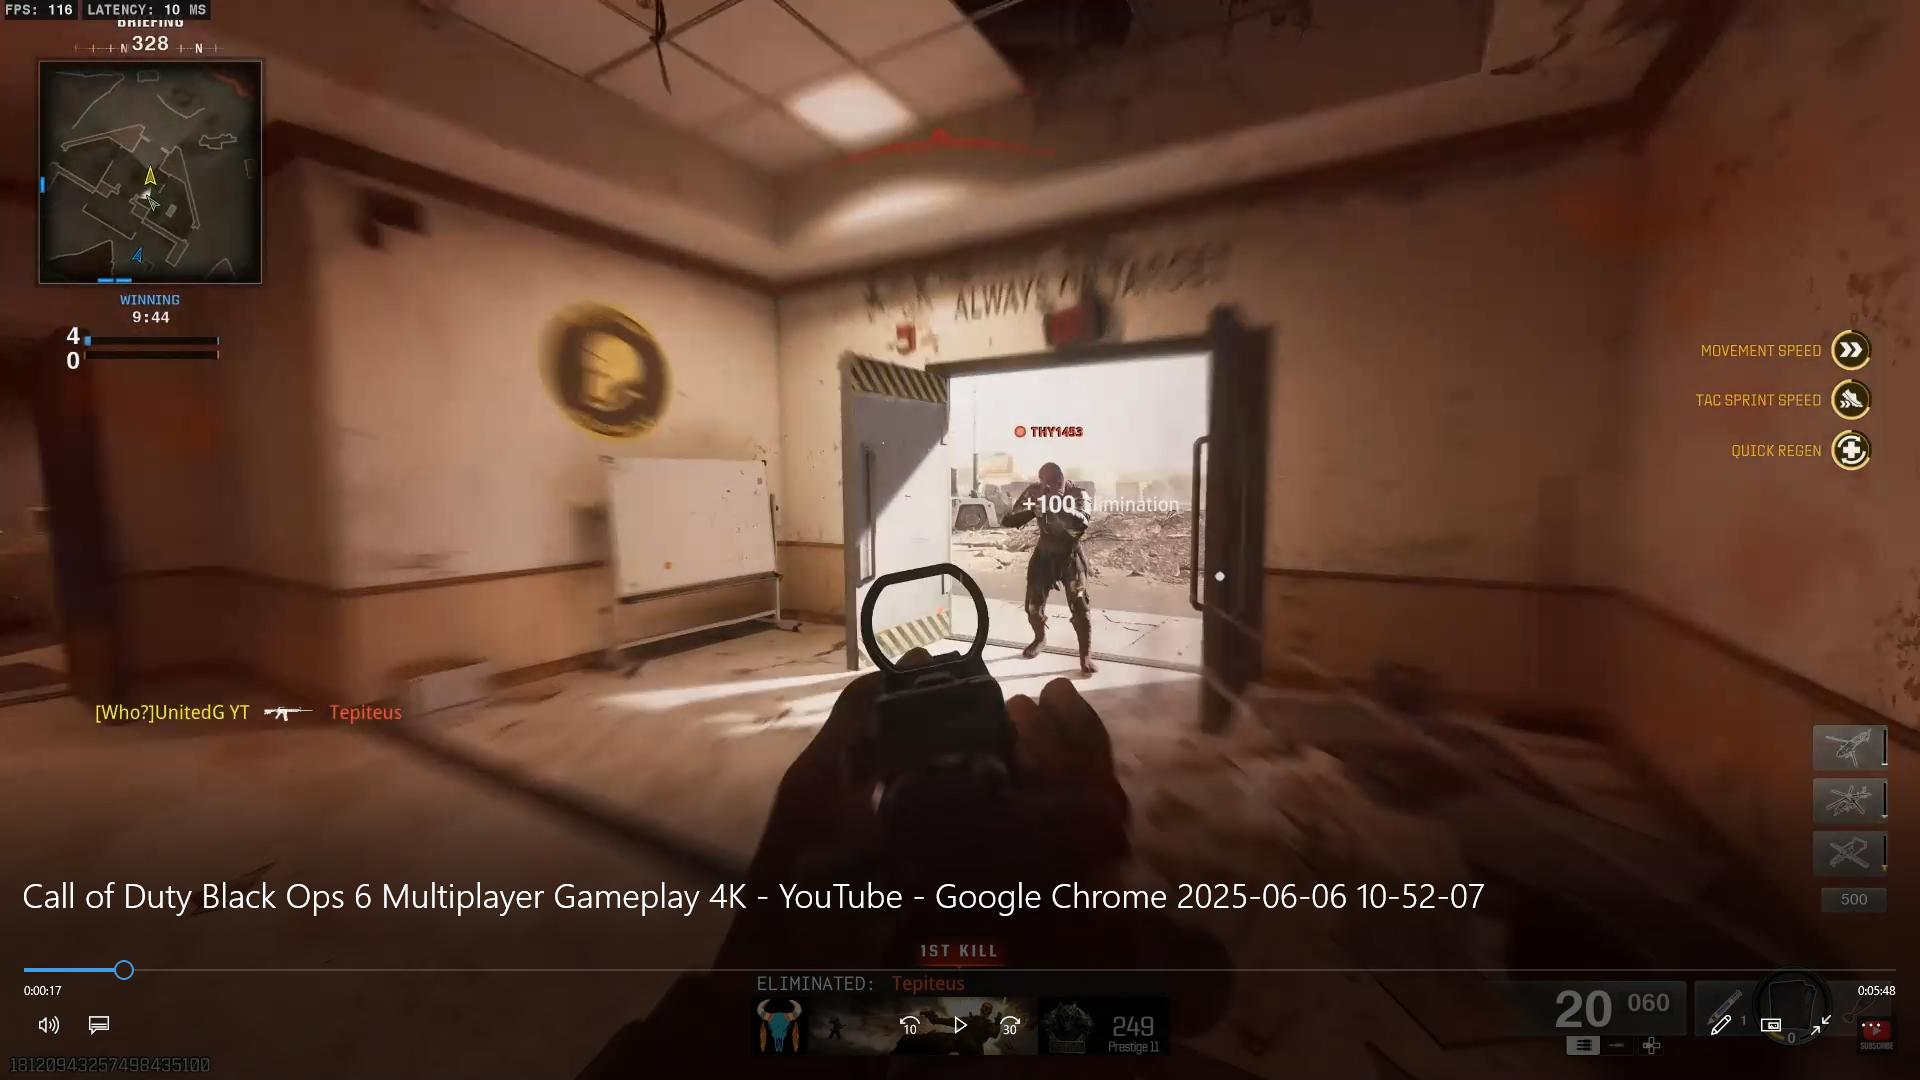Enemy: (990, 411, 1121, 687)
